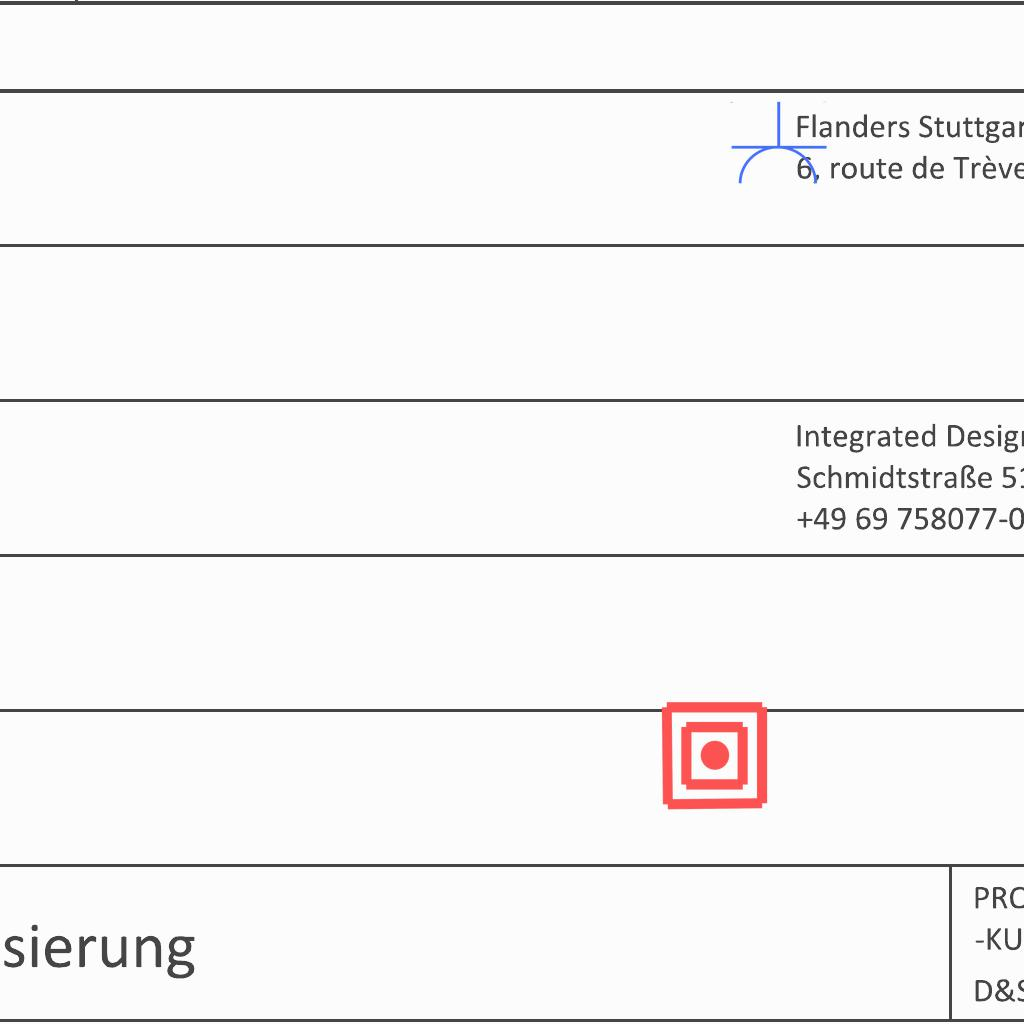NAM-Nichtautomatischer_Melder: (658, 699, 771, 812)
Schukosteckdose_einfach: (728, 101, 828, 188)
